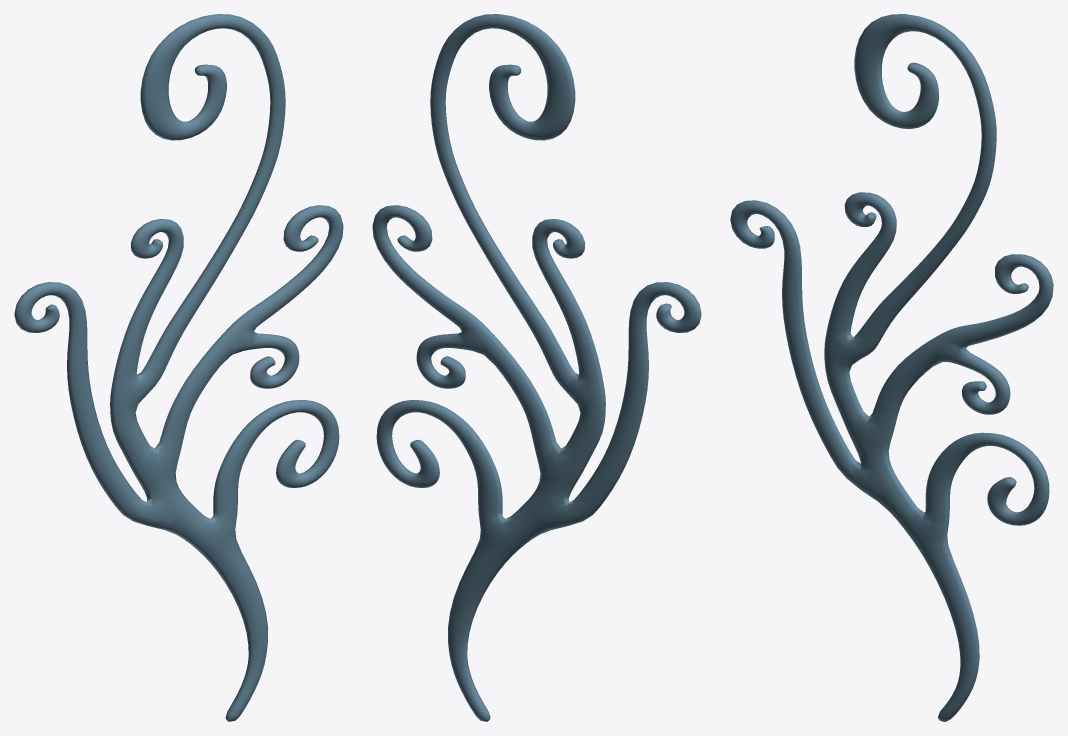
File: SwirlingPattern1.fbx
3 views of the same model, side by side, from view 1: azimuth 30°, elevation 25°; view 2: azimuth 150°, elevation 25°; view 3: azimuth 330°, elevation 25° (orthographic).
Parts seen in each view (by area): view 1: Plane.011; view 2: Plane.011; view 3: Plane.011.
Boxes of the visible parts, bbox=[...] form: Plane.011: bbox=[14, 14, 343, 721]; Plane.011: bbox=[372, 14, 701, 721]; Plane.011: bbox=[730, 14, 1053, 721].
Size of the model in its own units: 18.88 by 39.07 by 0.6604.
